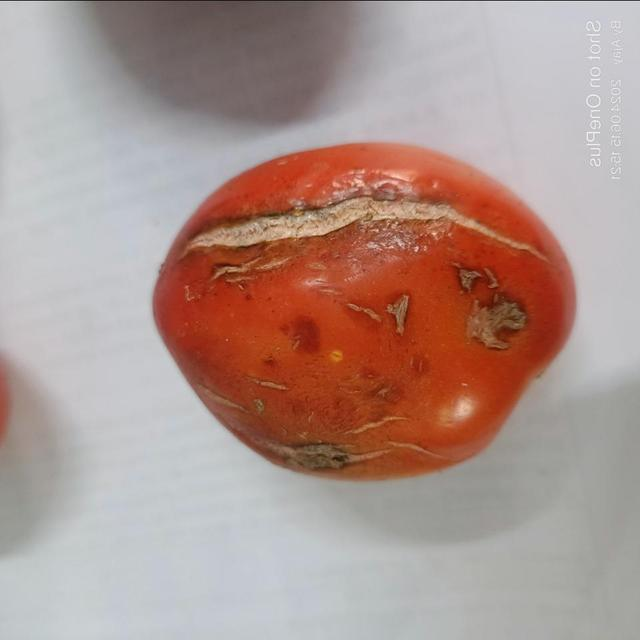Cracking Fruit: (321, 149, 367, 215)
